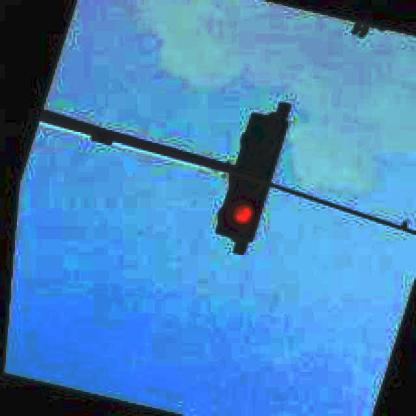Traffic Light -Red-: (207, 110, 288, 246)
